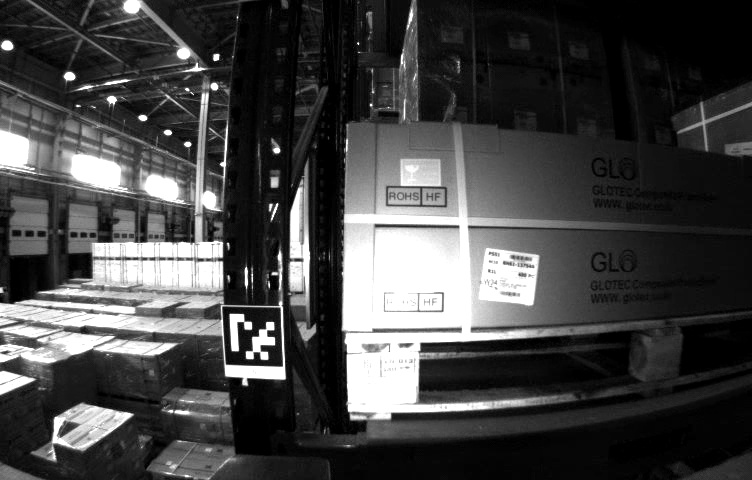True Barcode: (480, 248, 535, 306)
